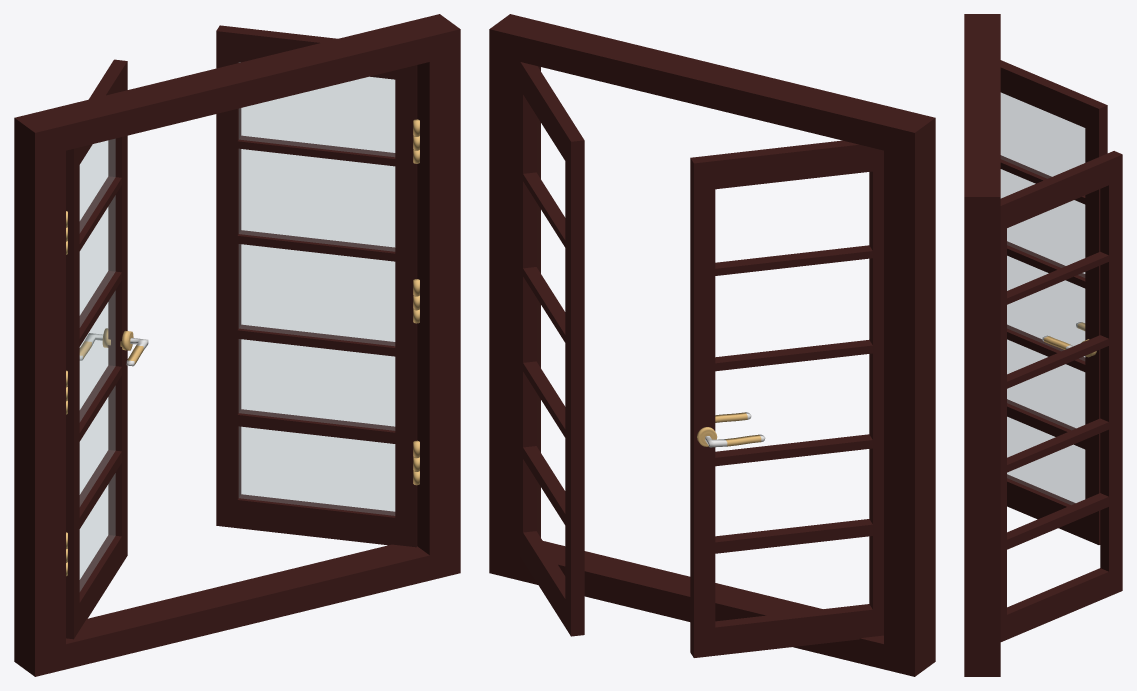
The model's file is door.glb.
3 renders of one model, left to right at view 1: azimuth 30°, elevation 25°; view 2: azimuth 150°, elevation 25°; view 3: azimuth 270°, elevation 25°, orthographic. The views are drawn at different scales.
Visible parts, largest first — view 1: Plane, Plane.004, Plane.002, Plane.001, Plane.003, Cylinder.001; view 2: Plane, Plane.001, Plane.002, Cylinder.001; view 3: Plane.002, Plane, Plane.003, Plane.001, Cylinder.001.
Part boxes in pixels (x1=…): Plane: x1=14, y1=14, x2=460, y2=676; Plane.004: x1=239, y1=62, x2=394, y2=515; Plane.002: x1=216, y1=25, x2=417, y2=547; Plane.001: x1=66, y1=59, x2=127, y2=639; Plane.003: x1=80, y1=139, x2=115, y2=590; Cylinder.001: x1=79, y1=328, x2=148, y2=366; Plane: x1=489, y1=14, x2=935, y2=676; Plane.001: x1=690, y1=140, x2=883, y2=657; Plane.002: x1=520, y1=62, x2=584, y2=636; Cylinder.001: x1=697, y1=412, x2=765, y2=447; Plane.002: x1=1000, y1=151, x2=1122, y2=641; Plane: x1=964, y1=14, x2=1000, y2=676; Plane.003: x1=1001, y1=93, x2=1084, y2=504; Plane.001: x1=1000, y1=60, x2=1107, y2=544; Cylinder.001: x1=1042, y1=322, x2=1096, y2=357.
Bounding box in the file's own units: 2.86 × 3.49 × 1.05.
